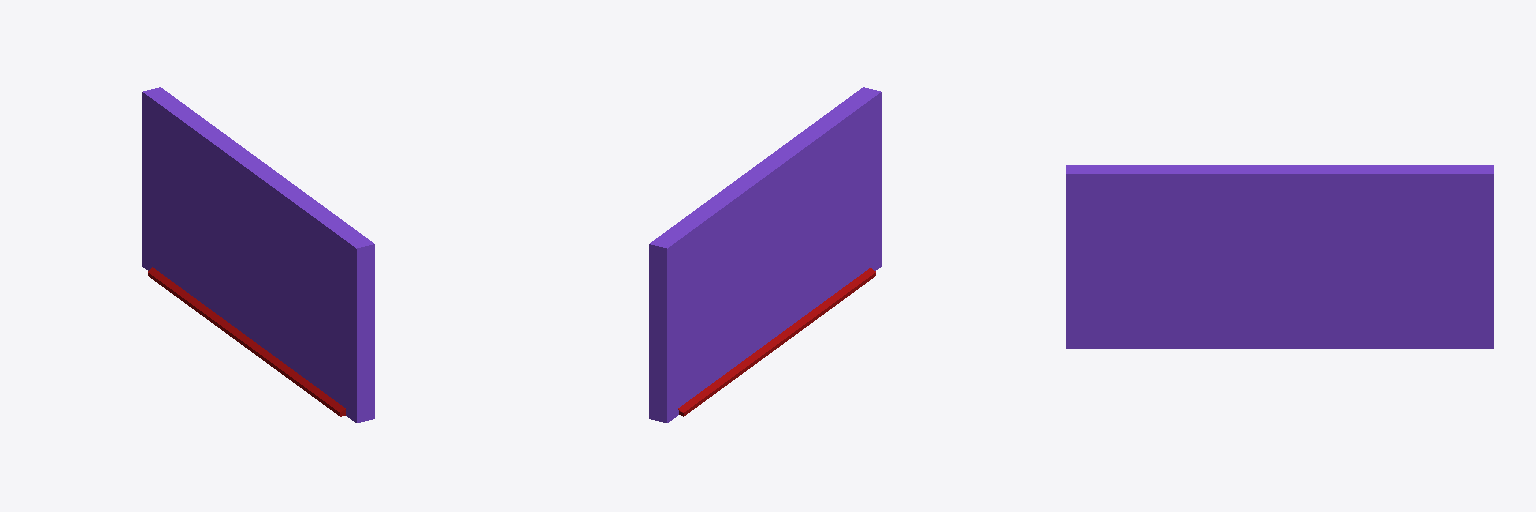
The model's file is wall_front.obj.
The picture shows the model from 3 angles: view 1: azimuth 30°, elevation 25°; view 2: azimuth 150°, elevation 25°; view 3: azimuth 270°, elevation 25°; orthographic projection.
Parts seen in each view (by area): view 1: Front_Wall, Floor_Border_Front; view 2: Front_Wall, Floor_Border_Front; view 3: Front_Wall.
Boxes of the visible parts, x1,y1,x2,y2 form: Front_Wall: [142, 87, 374, 422]; Floor_Border_Front: [148, 267, 345, 416]; Front_Wall: [649, 87, 881, 422]; Floor_Border_Front: [678, 268, 875, 416]; Front_Wall: [1066, 165, 1493, 348].
Bounding box in the file's own units: 5.33 × 37.16 × 82.53.